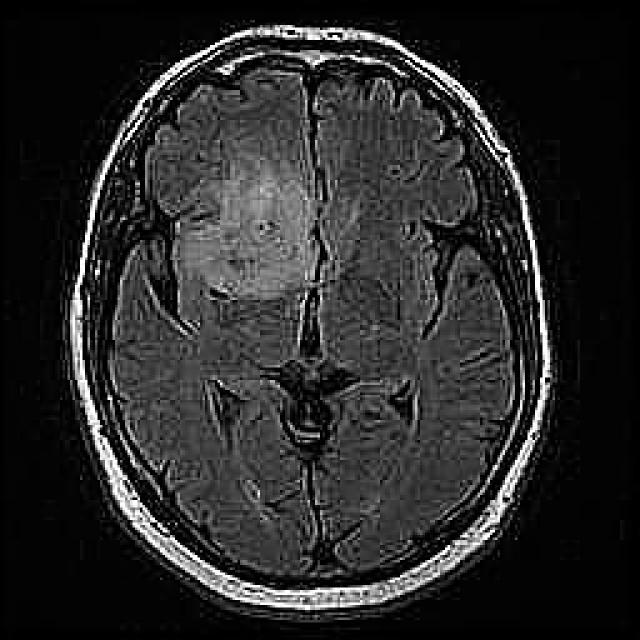Tumor-Cell: (172, 154, 360, 305)
